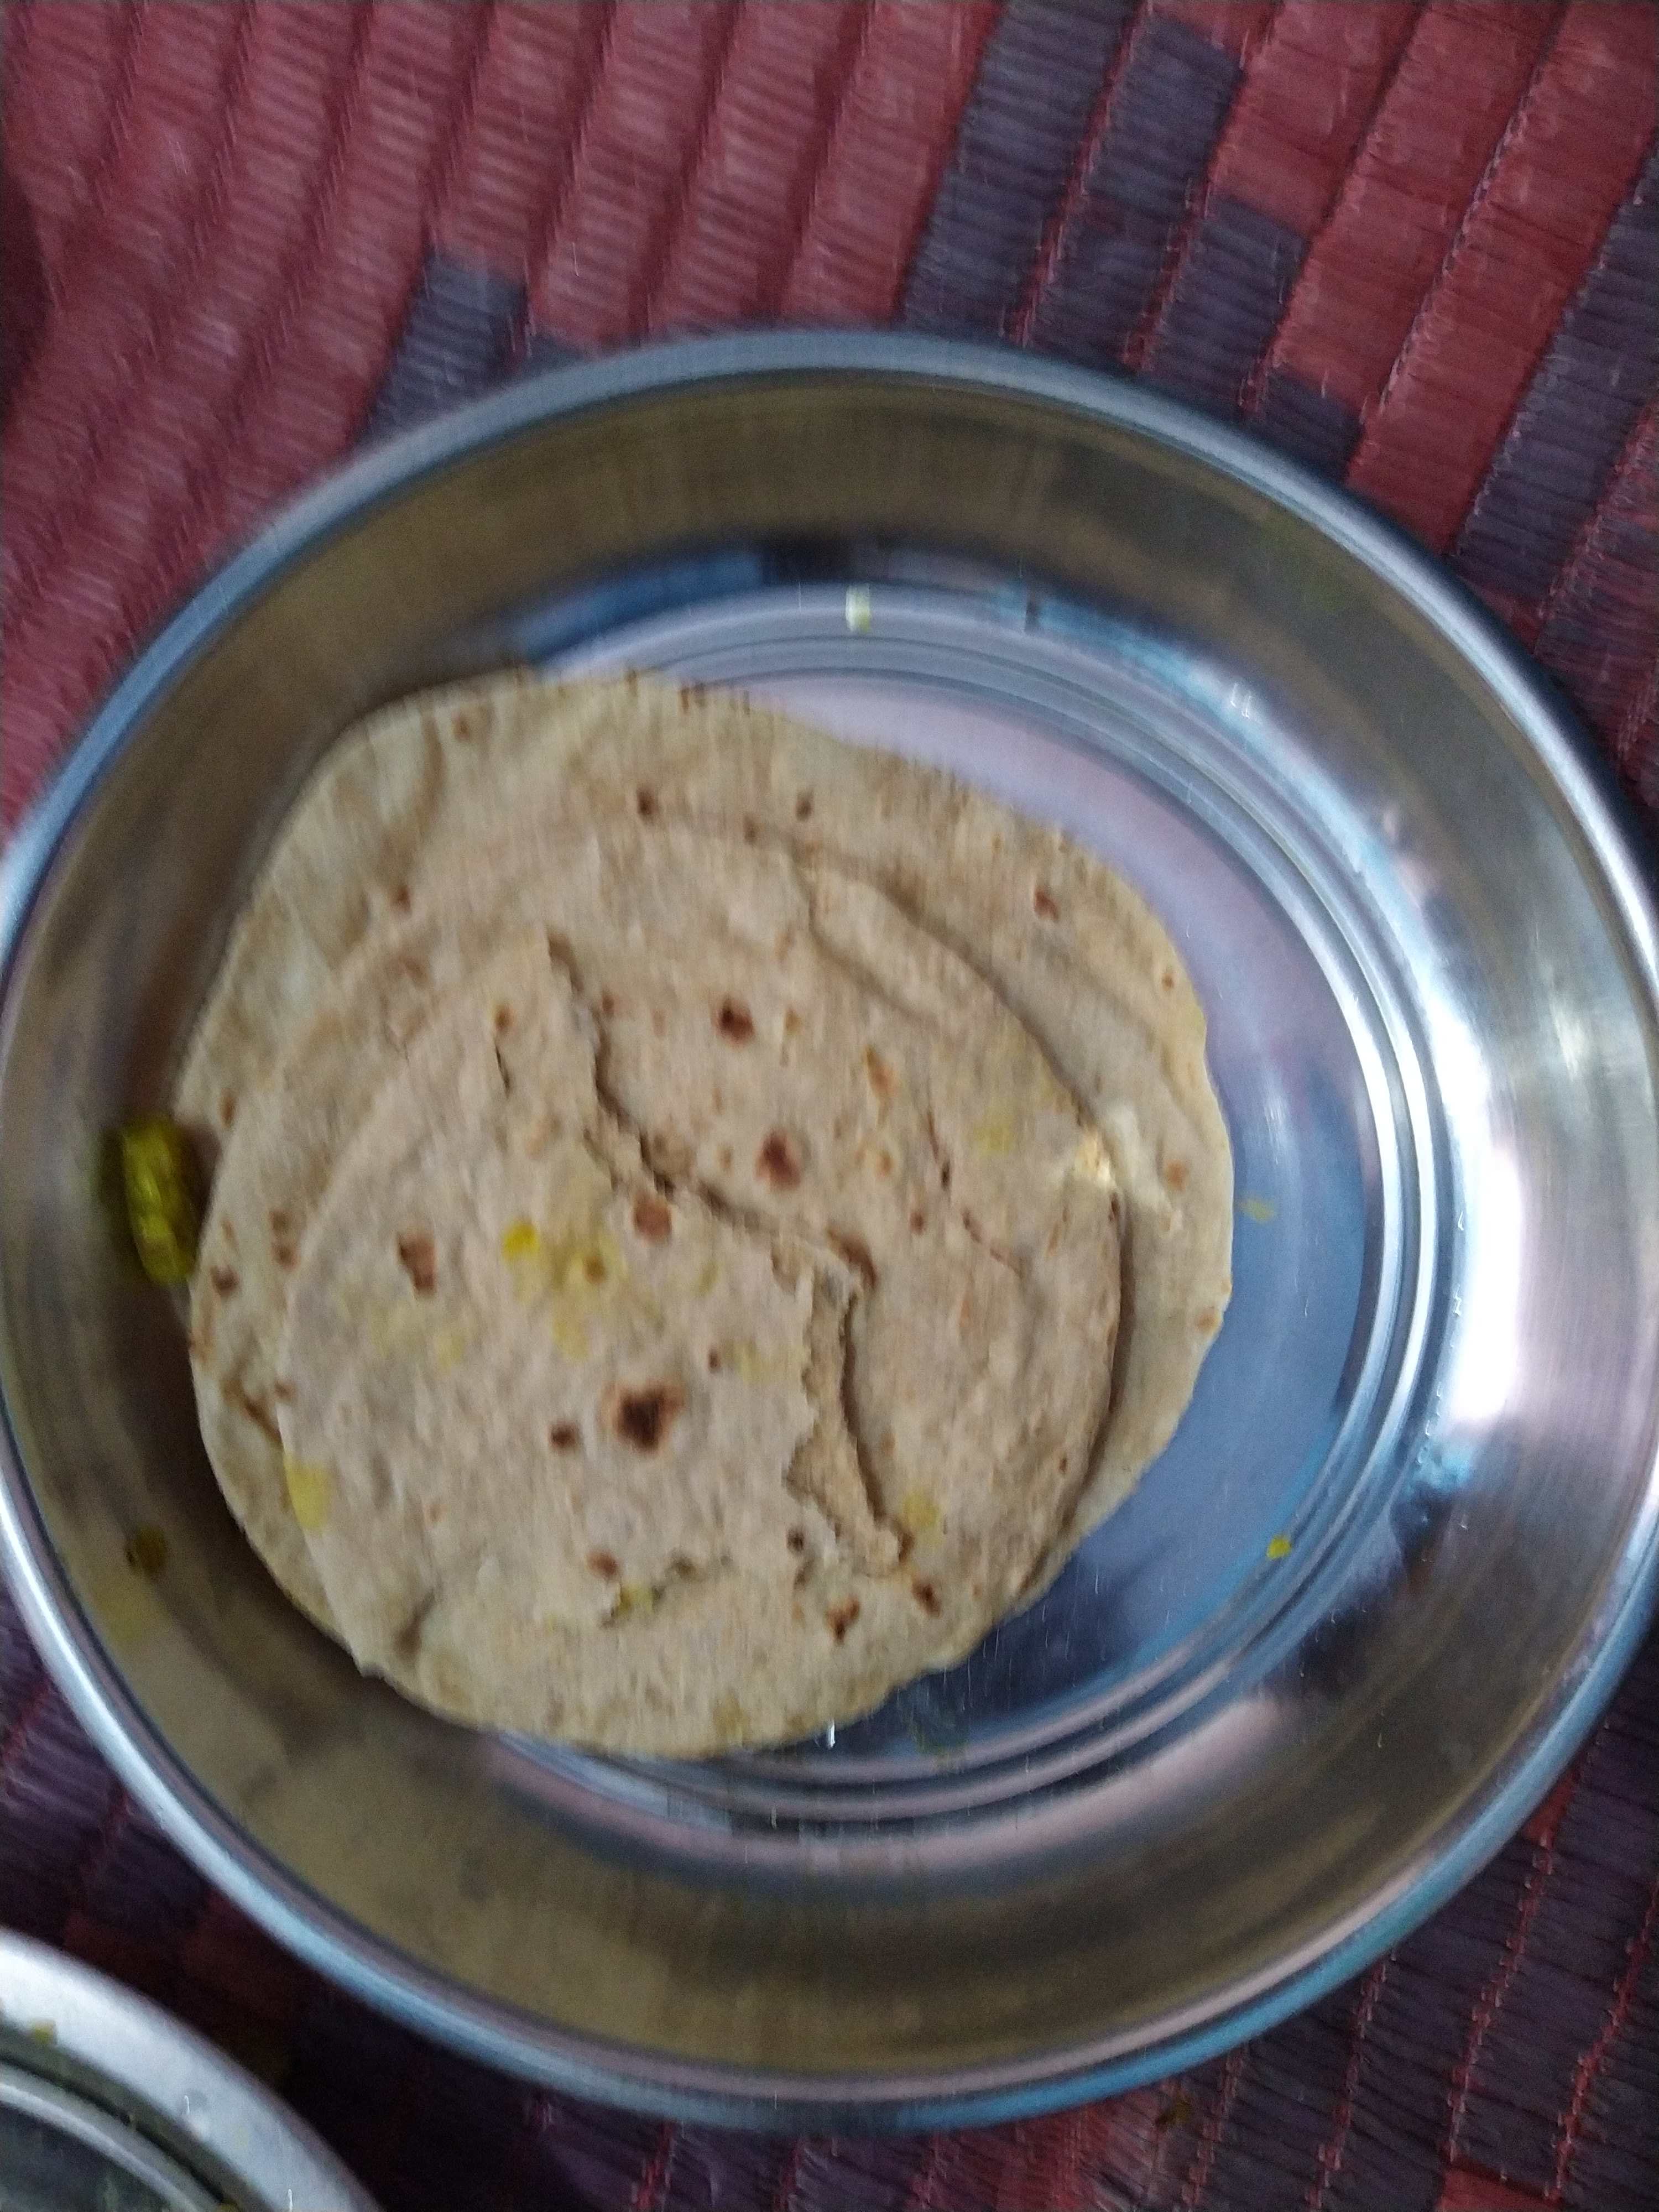food: (112, 643, 1248, 1777)
